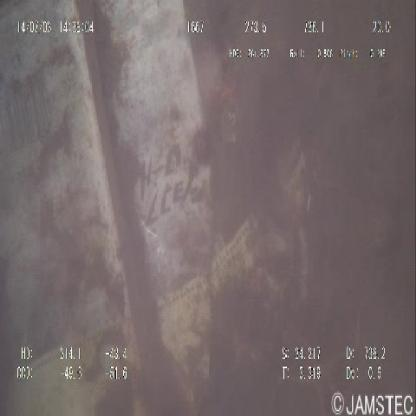Rác: (5, 3, 298, 416)
